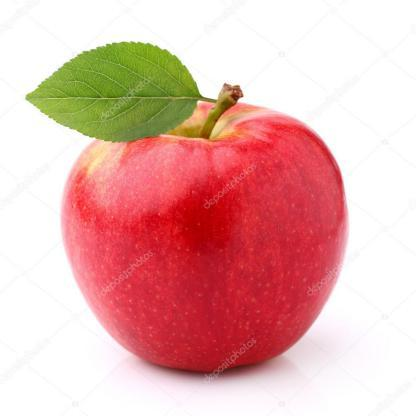Apple leaf: (24, 41, 204, 144)
